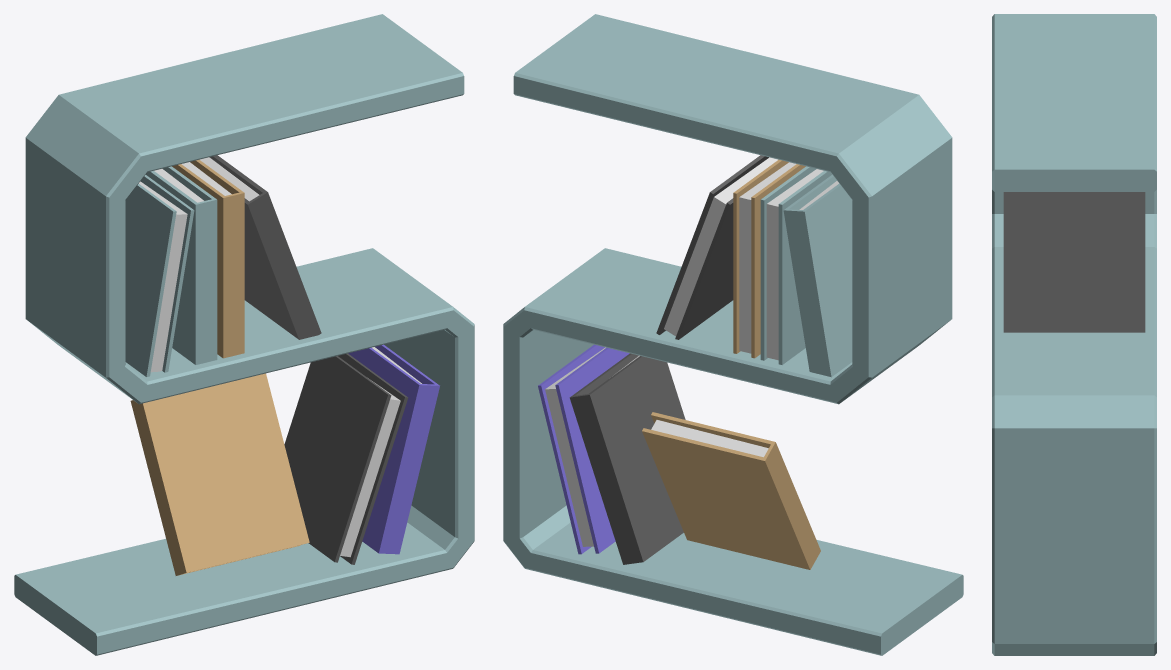
File: EtagereLivres.fbx
3 renders of one model, left to right at view 1: azimuth 30°, elevation 25°; view 2: azimuth 150°, elevation 25°; view 3: azimuth 270°, elevation 25°, orthographic.
Visible parts, largest first — view 1: EtagereLivres; view 2: EtagereLivres; view 3: EtagereLivres.
Boxes of the visible parts, x1,y1,x2,y2 form: EtagereLivres: (14,14,474,655); EtagereLivres: (503,14,963,655); EtagereLivres: (992,14,1156,655).
Size of the model in its own units: 52.84 by 65.76 by 20.
